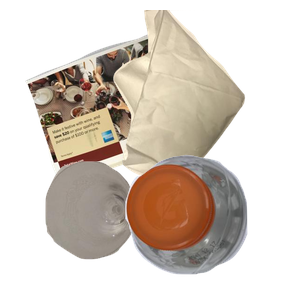glass: (43, 159, 187, 300)
paper: (23, 24, 232, 199)
plastic: (123, 152, 300, 300)
trash: (111, 10, 300, 190)
